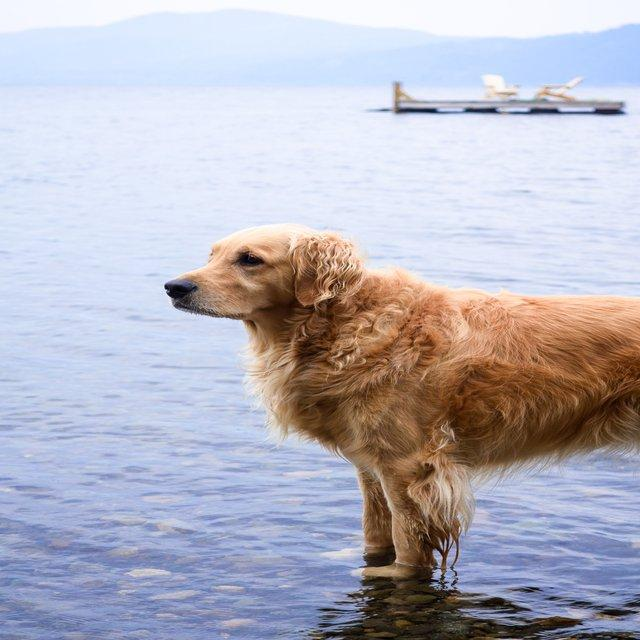retriever: (163, 221, 639, 580)
